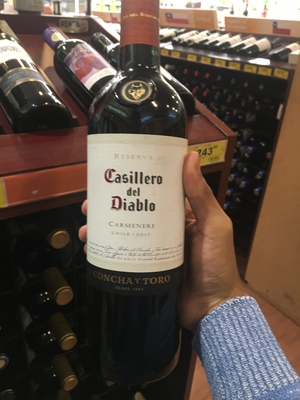casillero del diablo carmenere: (79, 22, 218, 390)
